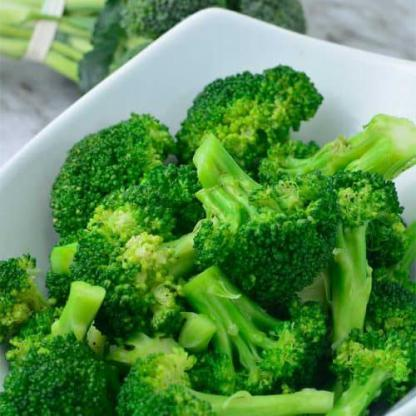broccoli: (0, 62, 415, 416)
